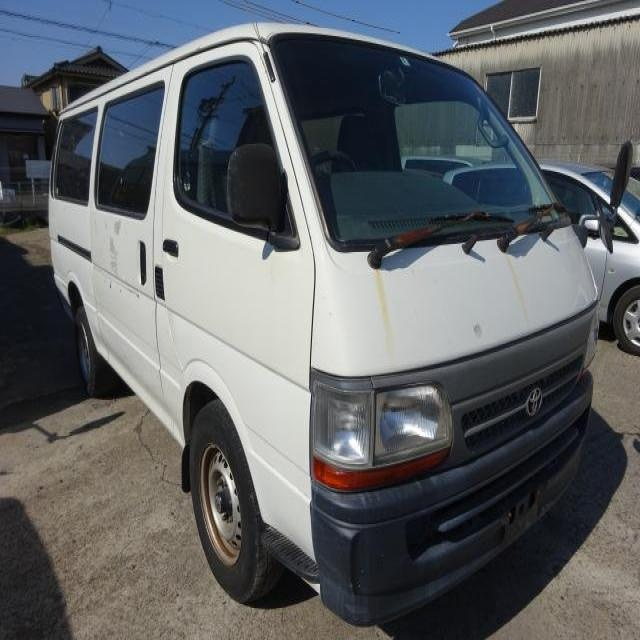Van: (52, 24, 600, 611)
